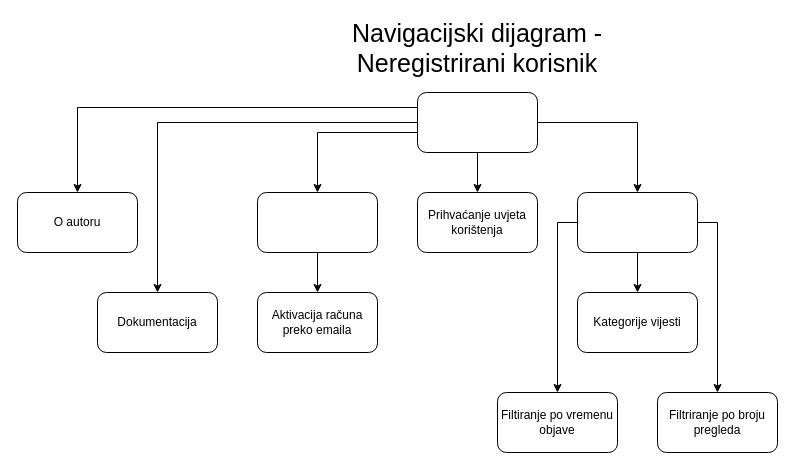
Some shapes in this 795 by 470 pixel diagram are drawn without their labels. The shapes that lost their labels are listed below. From the top down, each one's box as (x1, y1, x2, y2) in pixels, then its label:
(416, 92, 538, 152): Početna
(256, 192, 378, 252): Registracija
(576, 192, 698, 252): Pregled vijesti
